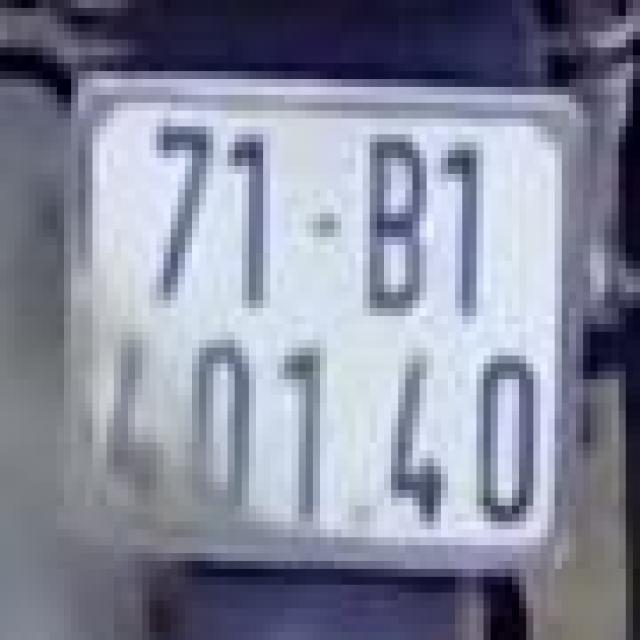0: (476, 344, 554, 533), (188, 316, 252, 522)
1: (217, 118, 295, 332), (266, 328, 331, 557), (434, 130, 505, 320)
4: (96, 316, 174, 522), (381, 336, 452, 549)
7: (142, 107, 220, 320)
B: (352, 126, 437, 316)
